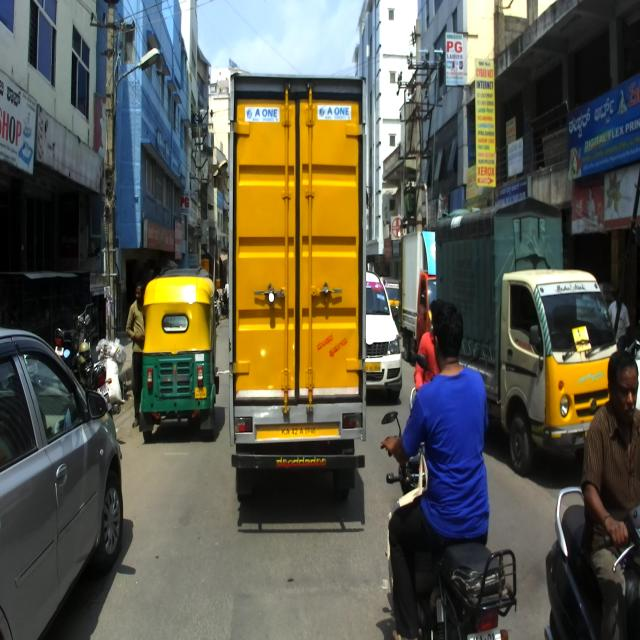auto ahead at: (142, 275, 218, 439)
car ahead at: (0, 332, 128, 640)
motorcycle ahead at: (384, 538, 515, 640)
truck ahead at: (228, 70, 368, 480)
